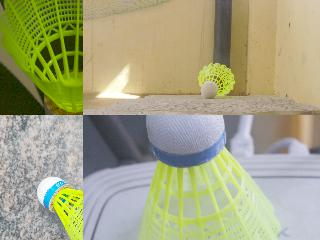shuttlecock: (133, 115, 282, 239), (0, 0, 82, 114), (37, 176, 82, 239), (198, 62, 235, 98)
